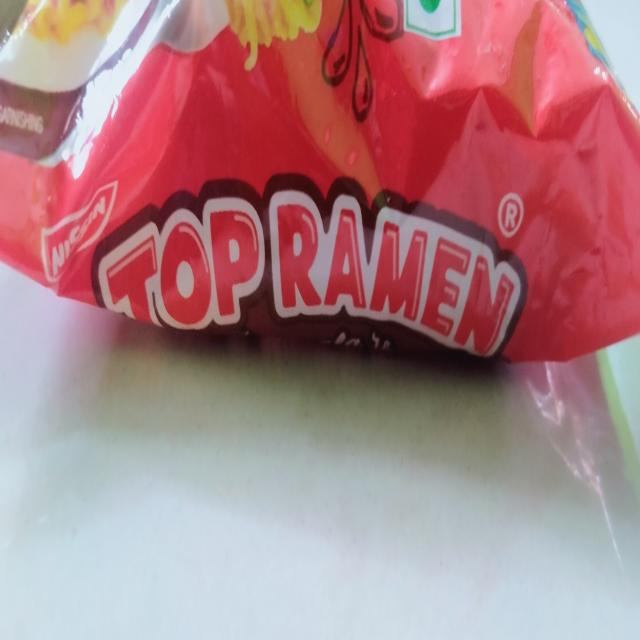maggi: (0, 5, 640, 370)
